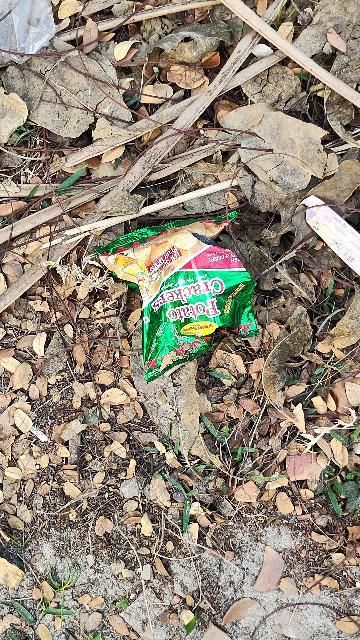packet: (91, 222, 276, 383)
